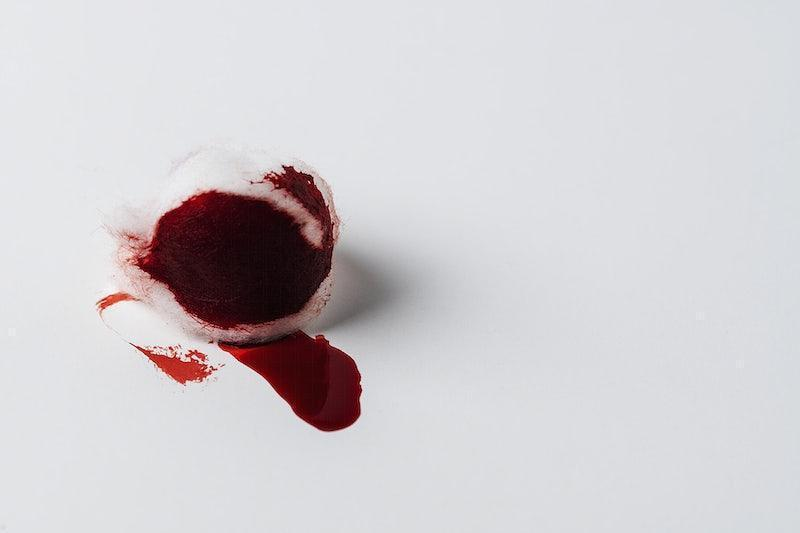Fire: (97, 145, 361, 432)
